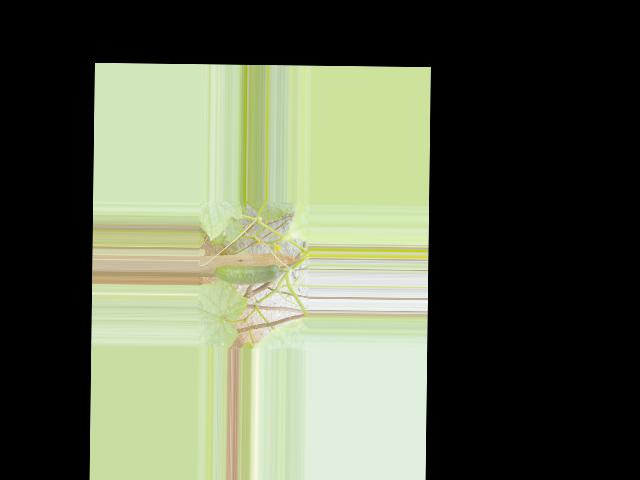cucumber: (214, 263, 280, 285)
